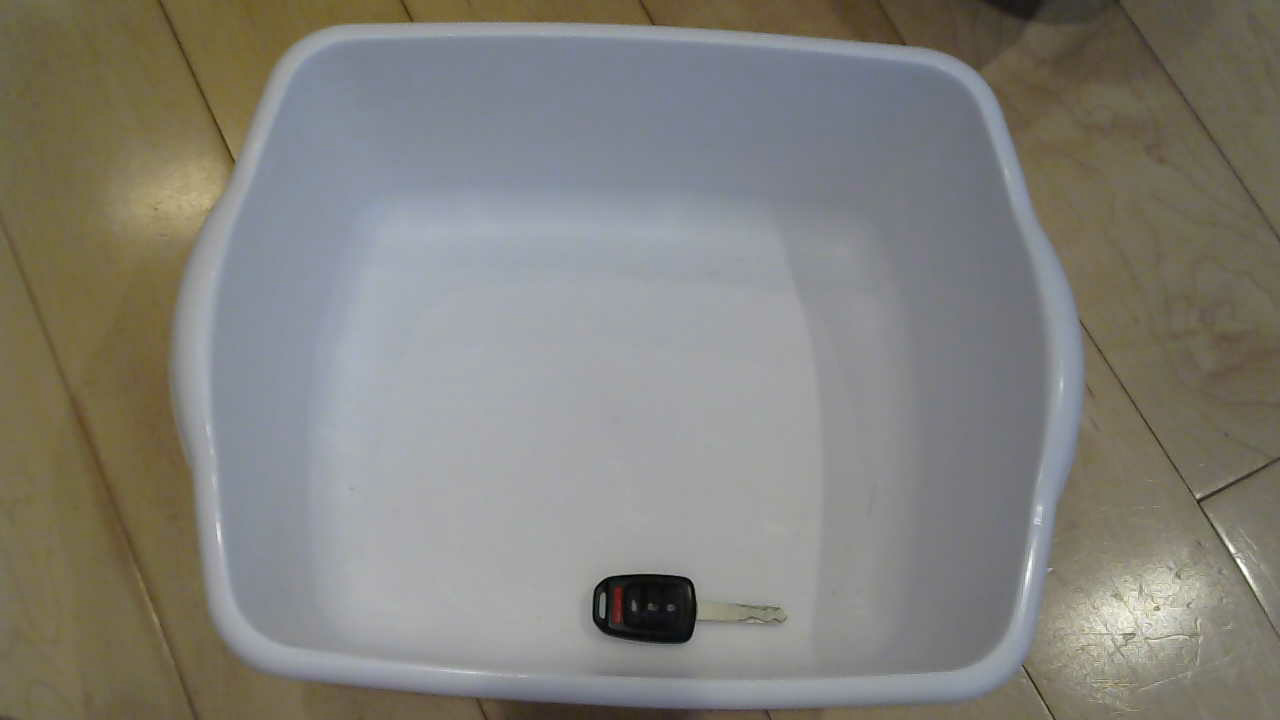key: (586, 570, 812, 666)
